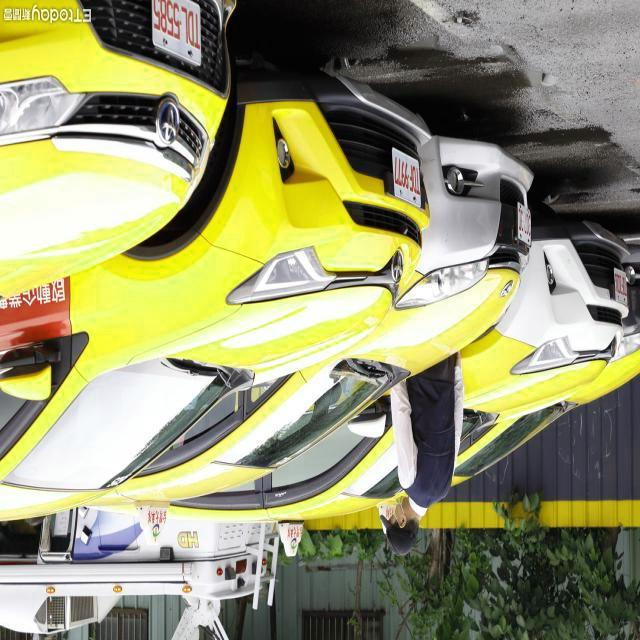taxi: (142, 120, 530, 560), (1, 105, 403, 523), (1, 12, 219, 272)
